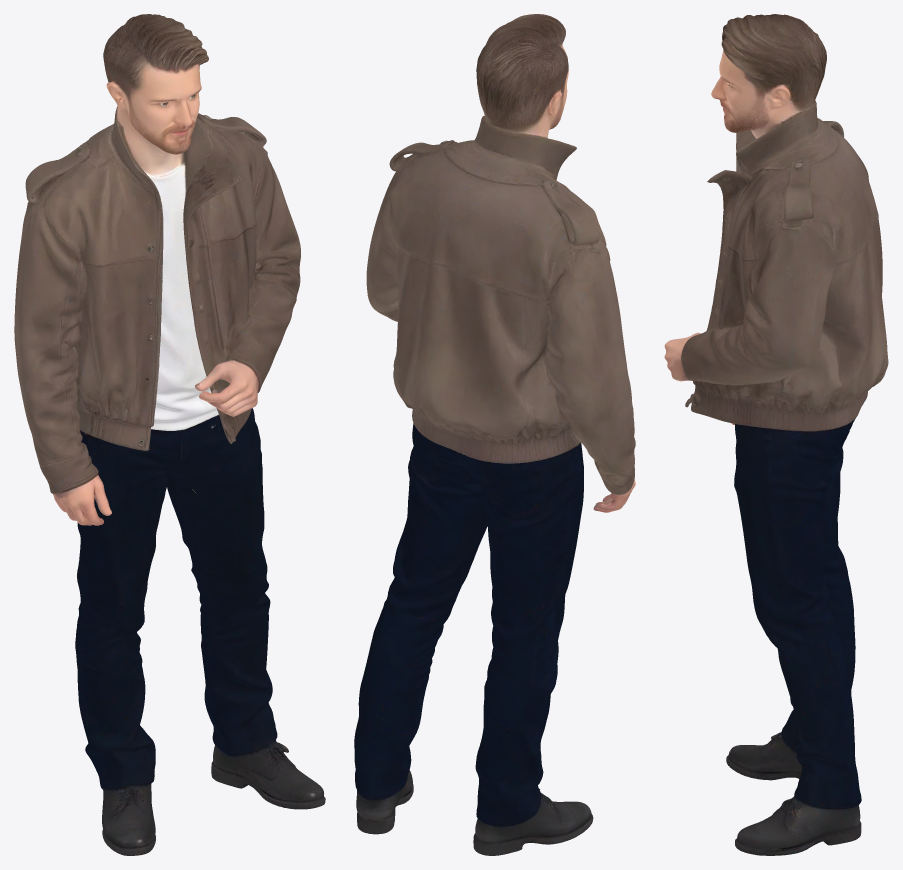
File: man-transformed.glb
The picture shows the model from 3 angles, left to right: view 1: azimuth 30°, elevation 25°; view 2: azimuth 150°, elevation 25°; view 3: azimuth 270°, elevation 25°; orthographic projection. The views are drawn at different scales.
Visible parts, largest first — view 1: Object_5; view 2: Object_5; view 3: Object_5.
Part boxes in pixels (bbox=[...]): Object_5: bbox=[14, 14, 325, 855]; Object_5: bbox=[354, 14, 635, 855]; Object_5: bbox=[664, 14, 888, 855].
Size of the model in its own units: 0.6798 by 1.9 by 0.5036.
1 material, 1 textured.
